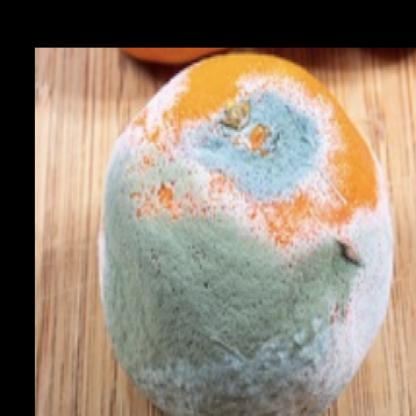rotten: (97, 45, 402, 416)
